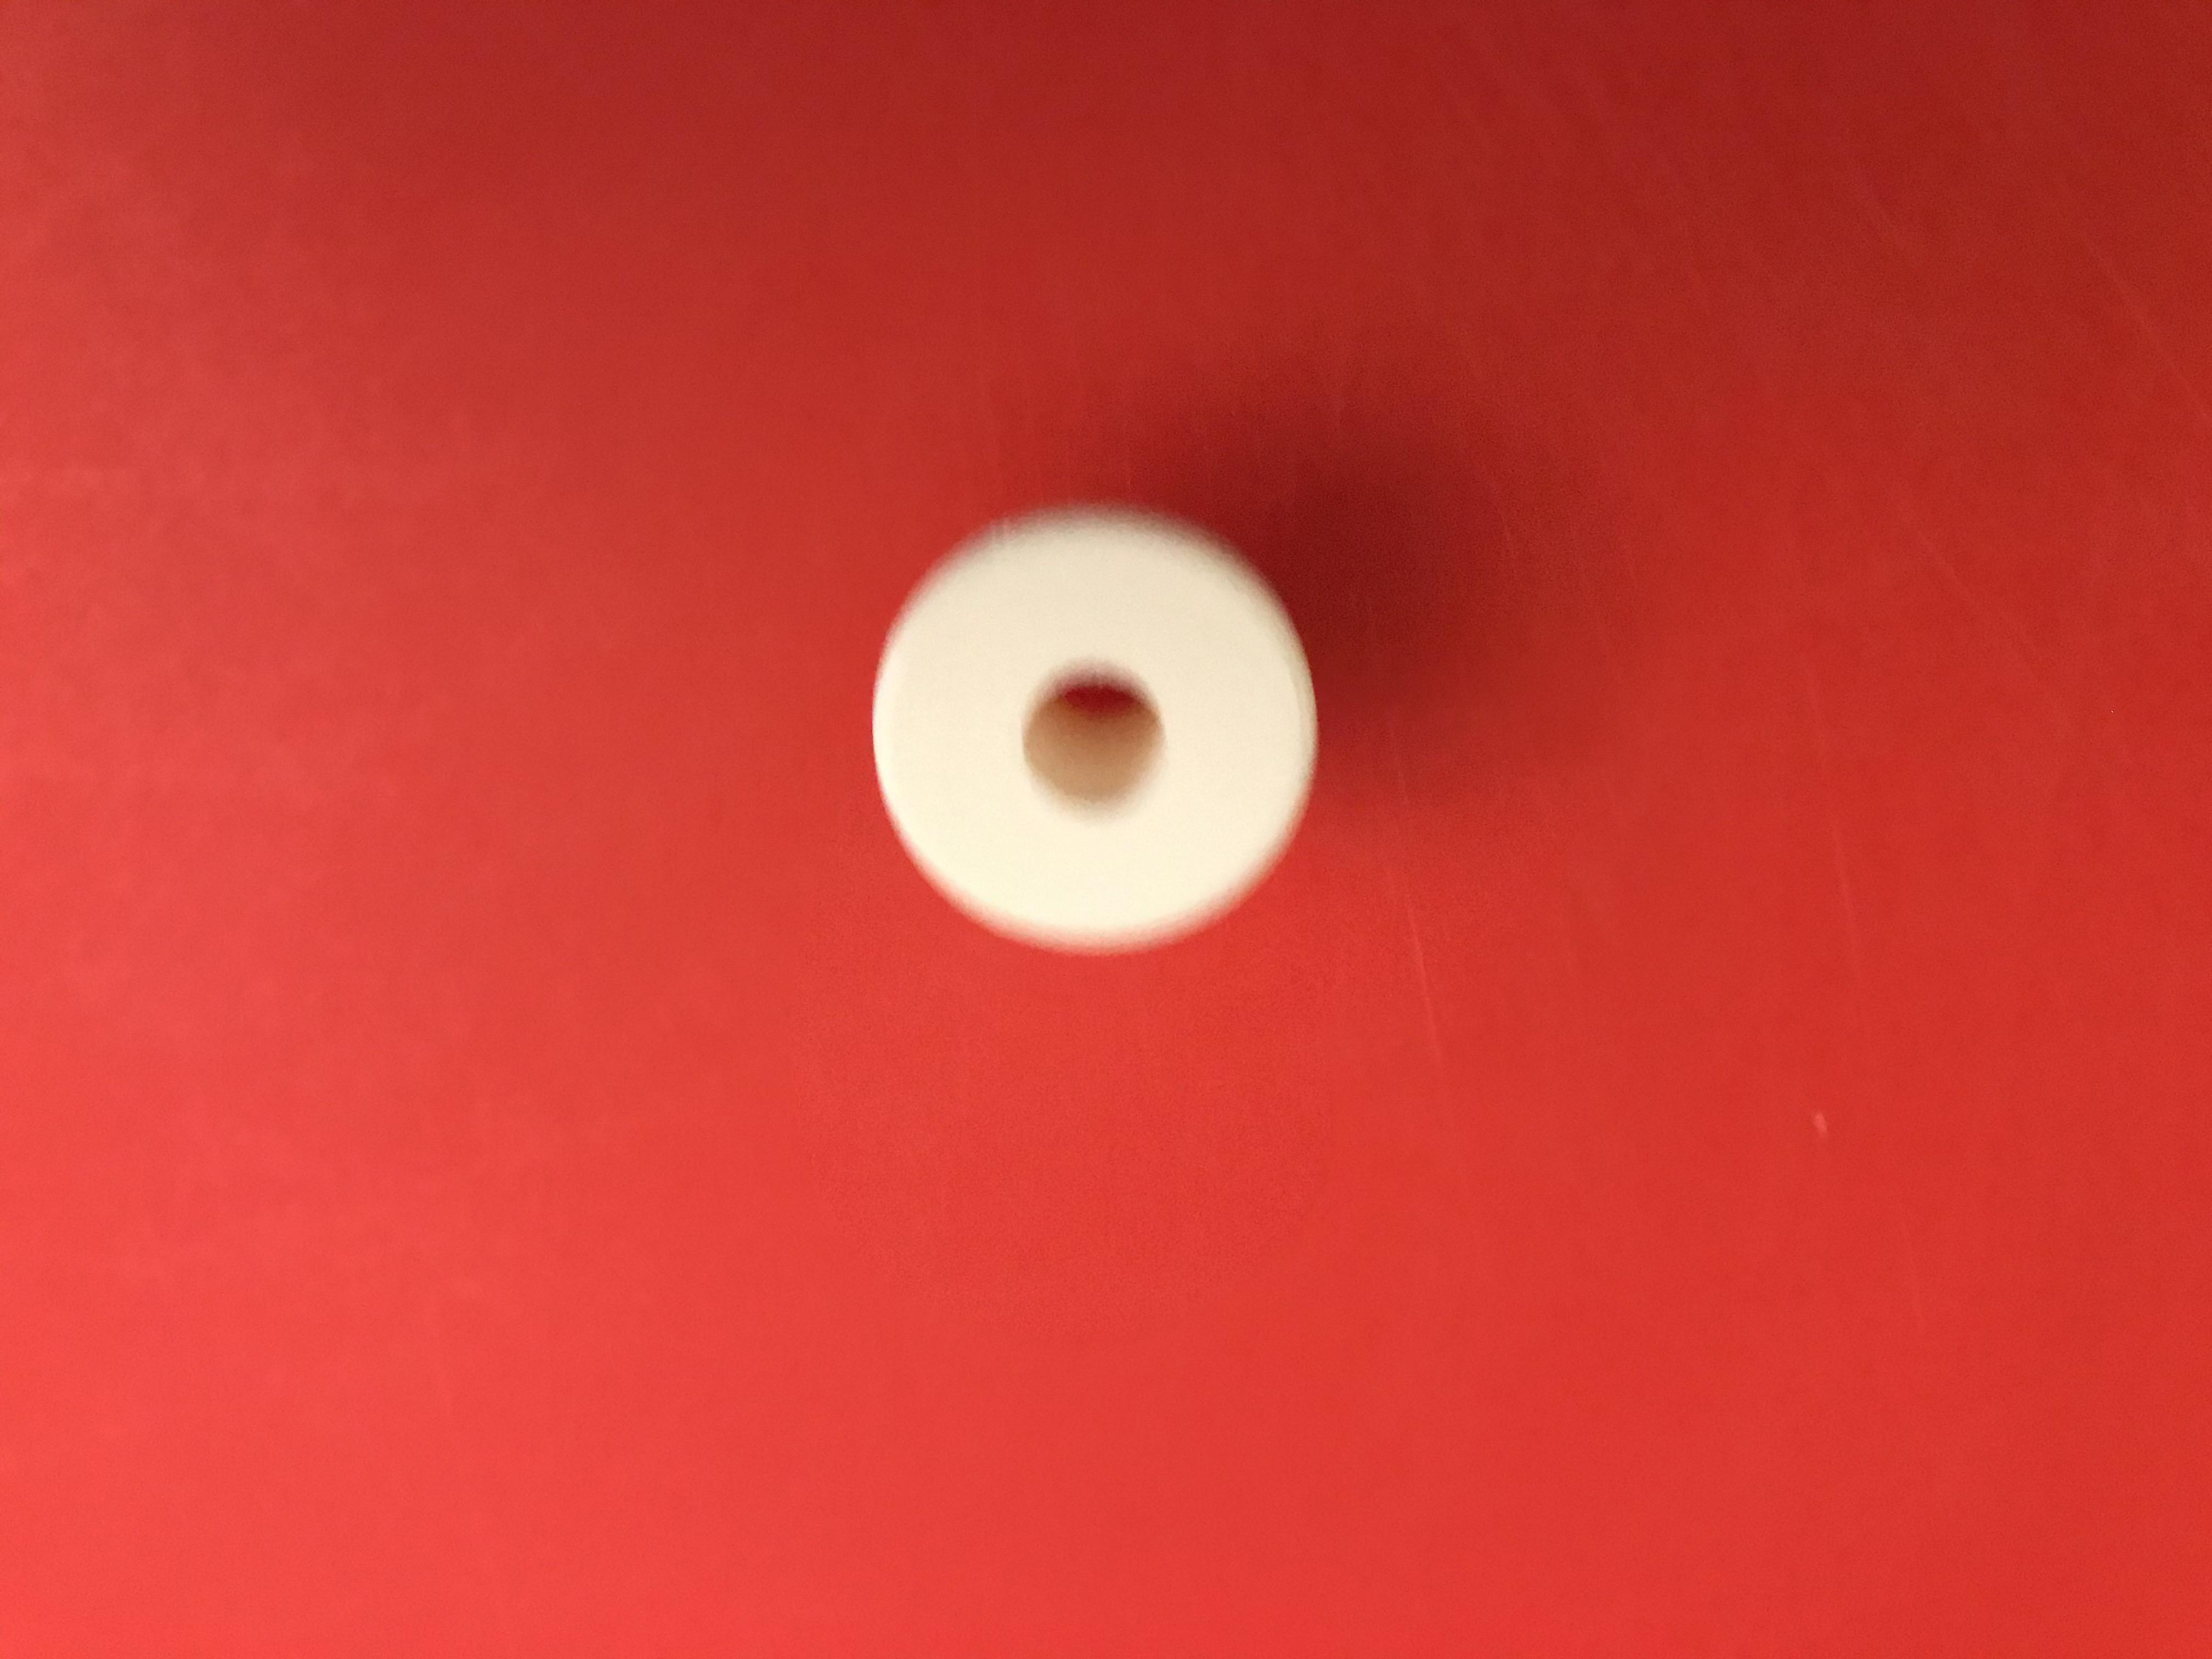White Cone: (853, 500, 1325, 939)
